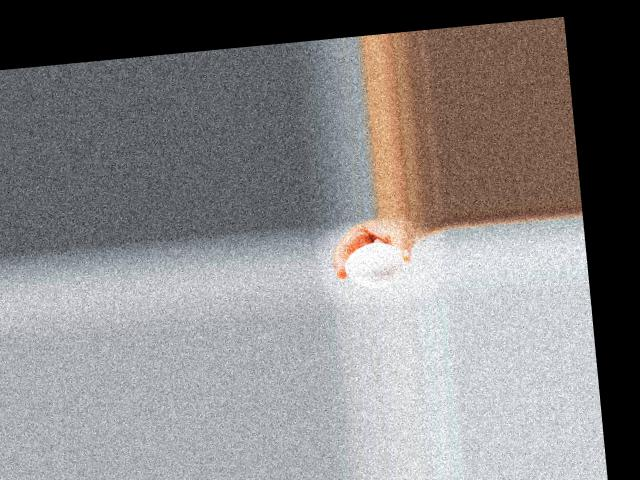egg: (342, 240, 404, 290)
